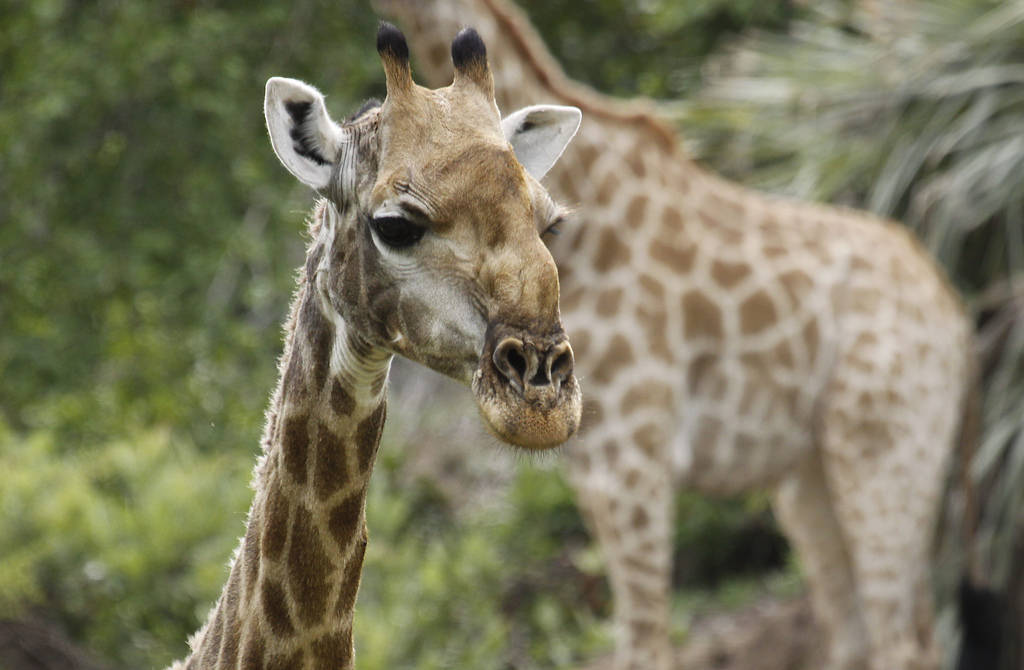giraffe: (220, 22, 590, 637)
